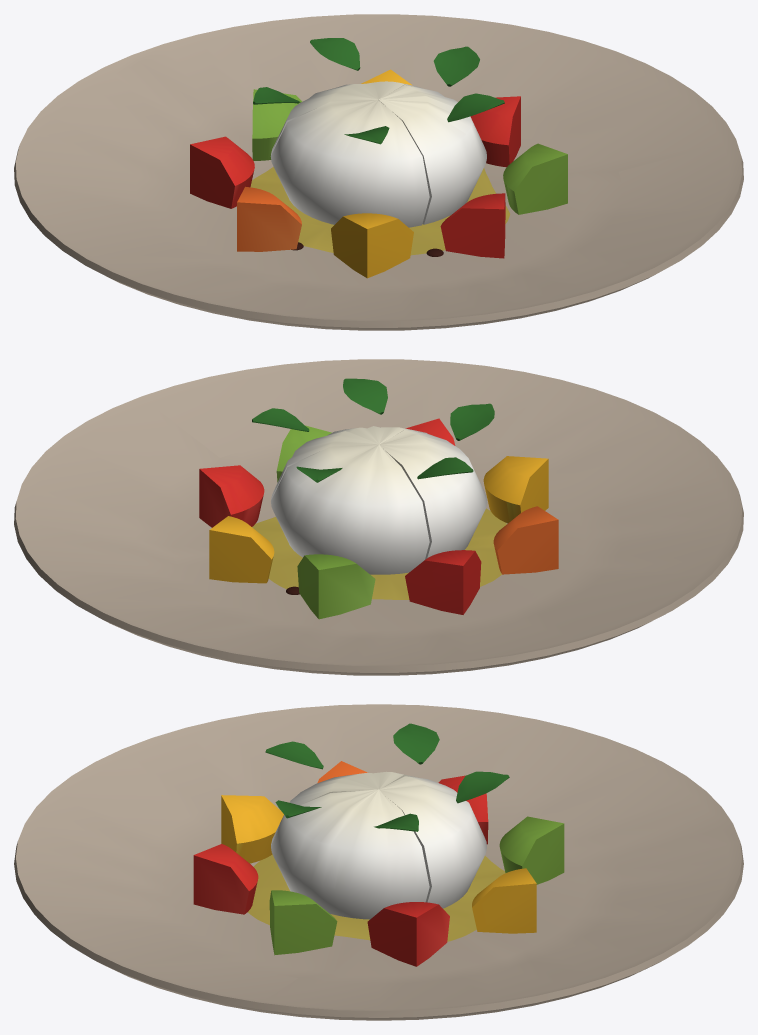
File: dish-burrata-lod0.glb
The picture shows the model from 3 angles, top to bottom: view 1: azimuth 30°, elevation 25°; view 2: azimuth 150°, elevation 25°; view 3: azimuth 270°, elevation 25°; orthographic projection.
Visible parts, largest first — view 1: burrata.lod0__table warm glaze, burrata.lod0__food glaze, burrata.lod0__food; view 2: burrata.lod0__table warm glaze, burrata.lod0__food glaze, burrata.lod0__food; view 3: burrata.lod0__table warm glaze, burrata.lod0__food glaze, burrata.lod0__food.
Boxes of the visible parts, x1,y1,x2,y2 form: burrata.lod0__table warm glaze: (14, 14, 743, 330); burrata.lod0__food glaze: (190, 69, 567, 278); burrata.lod0__food: (253, 38, 504, 144); burrata.lod0__table warm glaze: (14, 359, 743, 675); burrata.lod0__food glaze: (199, 418, 558, 619); burrata.lod0__food: (252, 378, 494, 482); burrata.lod0__table warm glaze: (14, 704, 743, 1020); burrata.lod0__food glaze: (193, 761, 564, 966); burrata.lod0__food: (265, 723, 509, 831).
Size of the model in its own units: 0.27 by 0.0566 by 0.27.
